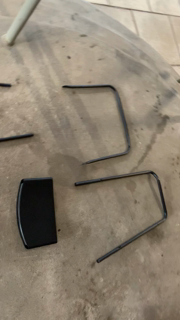Back: (16, 176, 61, 251)
C pipe: (61, 84, 134, 167)
U pipe: (74, 169, 169, 266)
